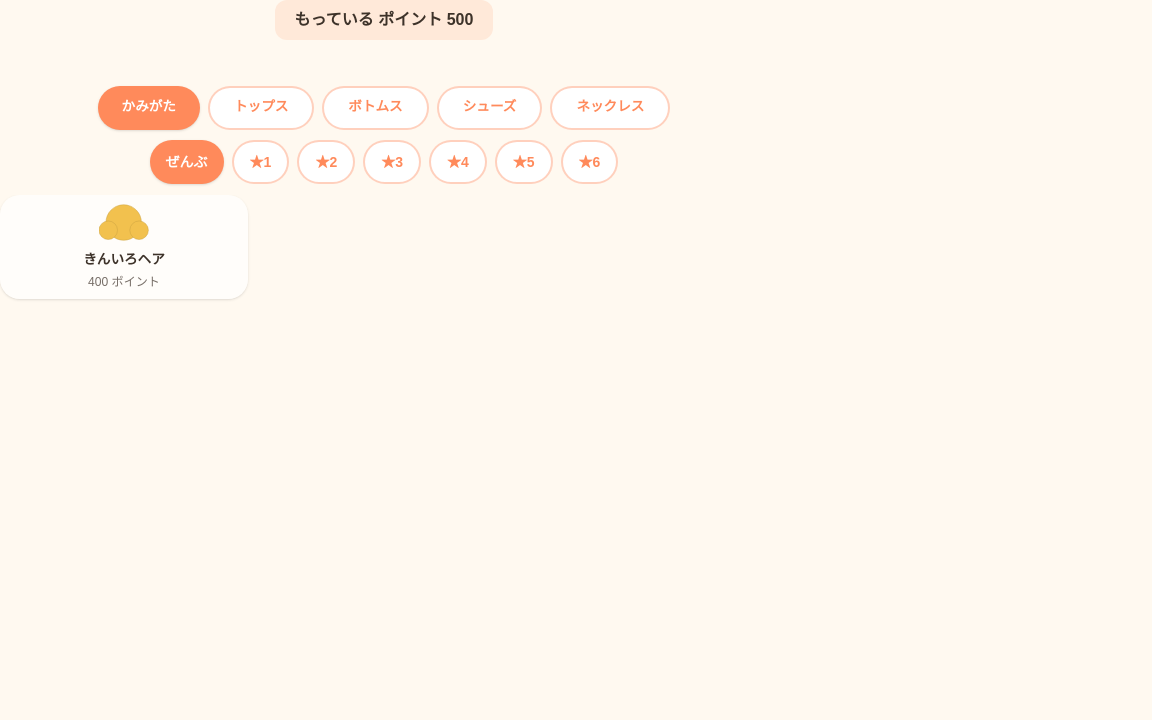
Test case: cancelling the dialog does not buy the item
Step 1. Click the button "きんいろヘア 400 ポイント" → point(124, 247), box top-left (0, 195), bottom-right (248, 299)
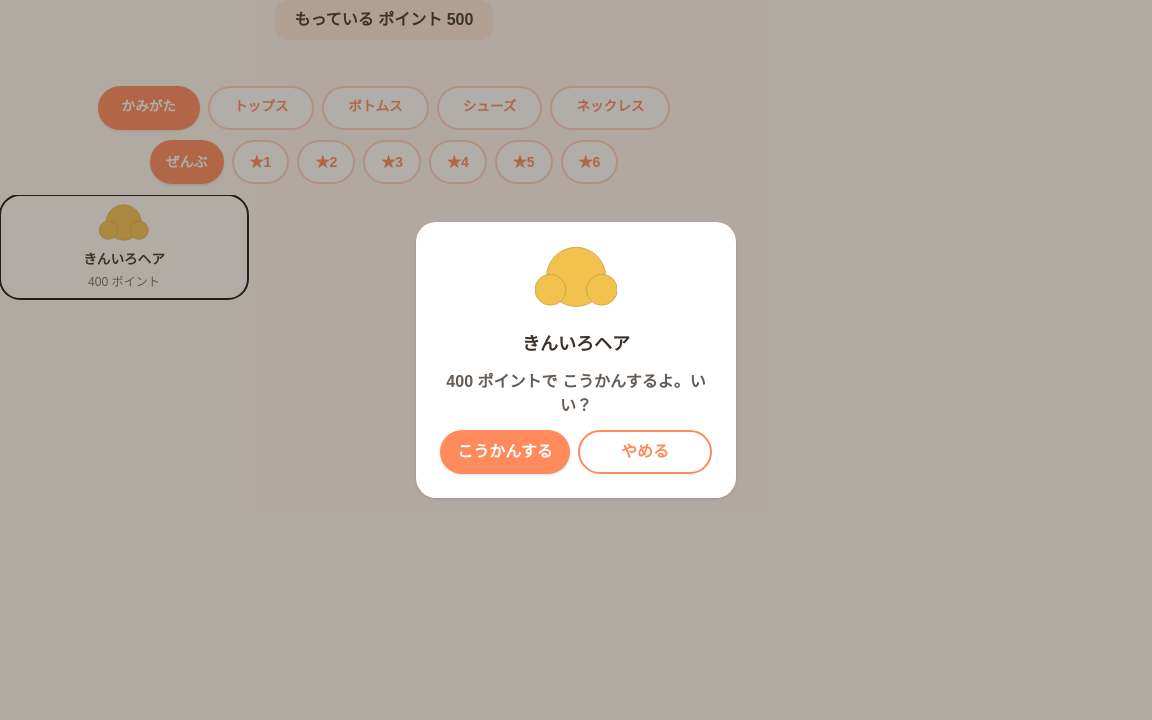
Step 2. Click the button "やめる" → point(645, 452), box top-left (578, 430), bottom-right (712, 474)
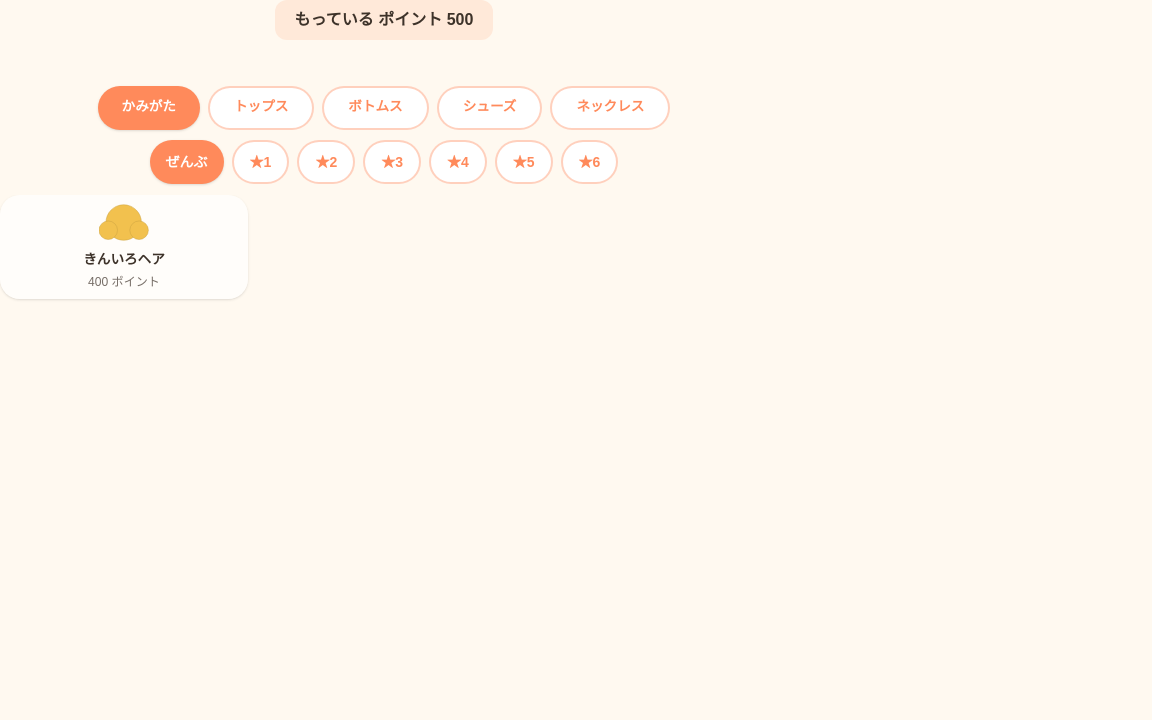
Expected: the text "きんいろヘア" is shown, top-left (83, 251), bottom-right (165, 270)
Result: the dialog is gone
